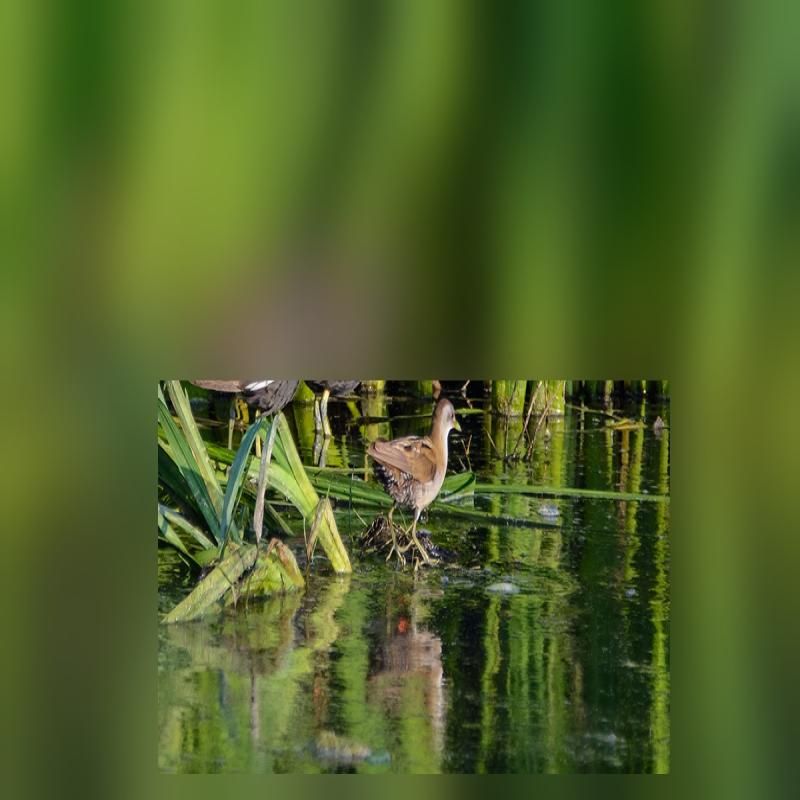little crake: (356, 389, 472, 565)
